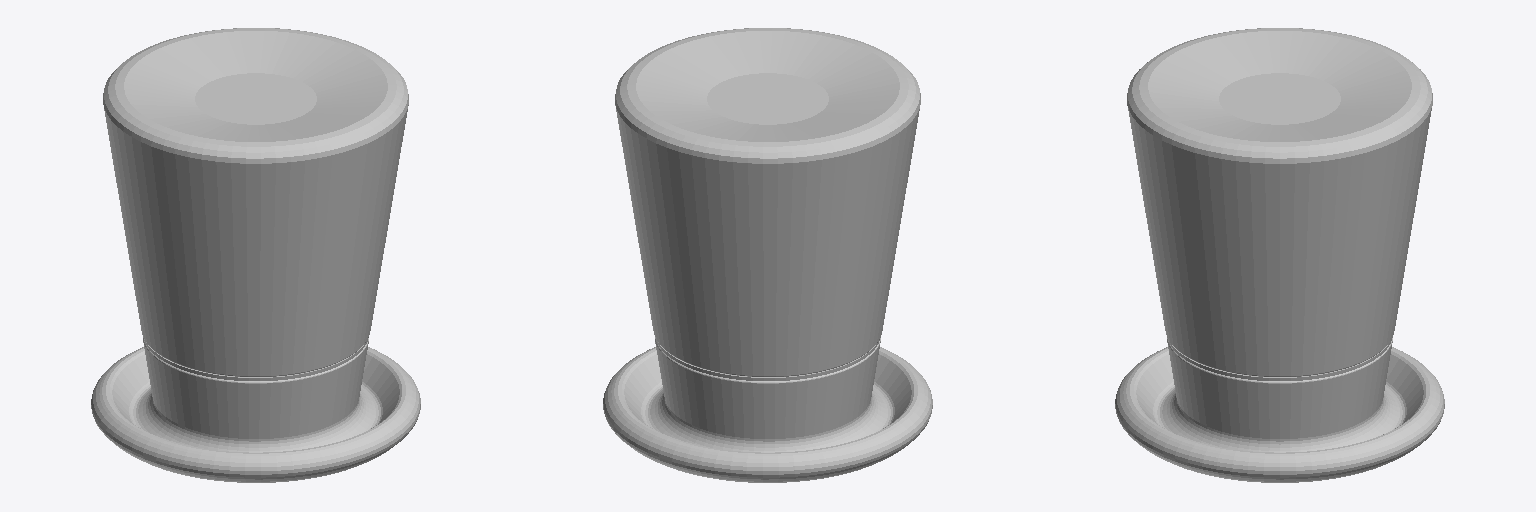
File: topHatRough.obj
The picture shows the model from 3 angles: view 1: azimuth 30°, elevation 25°; view 2: azimuth 150°, elevation 25°; view 3: azimuth 270°, elevation 25°; orthographic projection.
Parts seen in each view (by area): view 1: Cylinder; view 2: Cylinder; view 3: Cylinder.
Boxes of the visible parts, x1=… form: Cylinder: x1=91, y1=28, x2=420, y2=482; Cylinder: x1=603, y1=28, x2=932, y2=482; Cylinder: x1=1115, y1=28, x2=1444, y2=482.
Bounding box in the file's own units: 0.8814 × 1 × 0.8814.